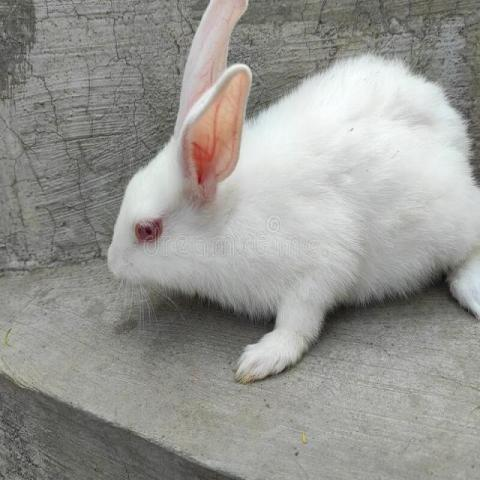small_animal: (103, 0, 478, 386)
